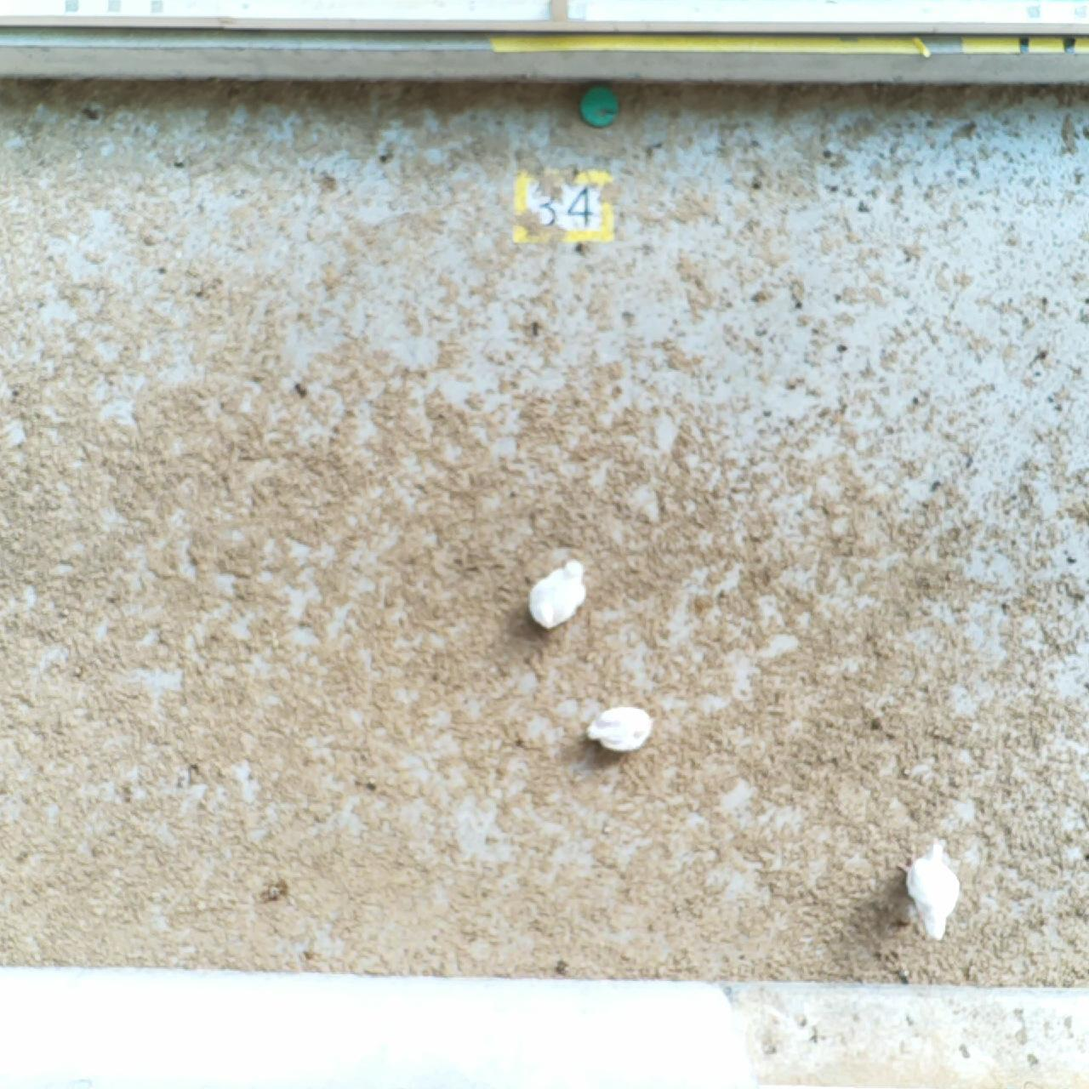chicken: (896, 837, 970, 948), (520, 552, 597, 642), (579, 690, 657, 769)
